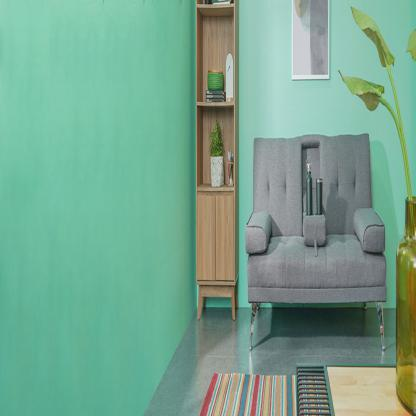gelas: (207, 68, 224, 93)
sova: (246, 129, 389, 354)
tanaman: (209, 122, 225, 166)
